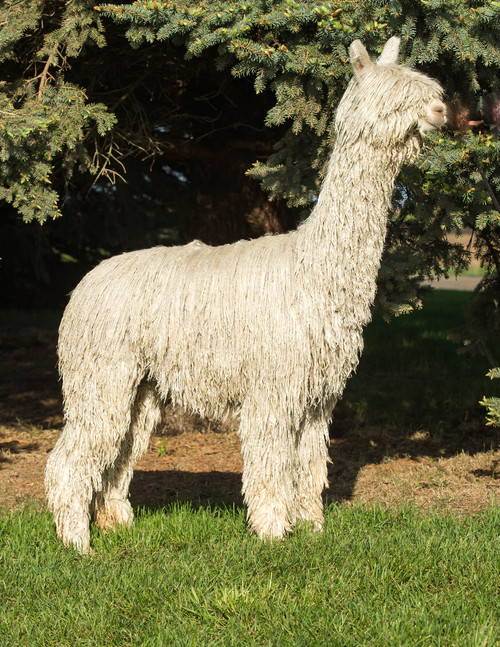alpaca: (42, 34, 448, 557)
